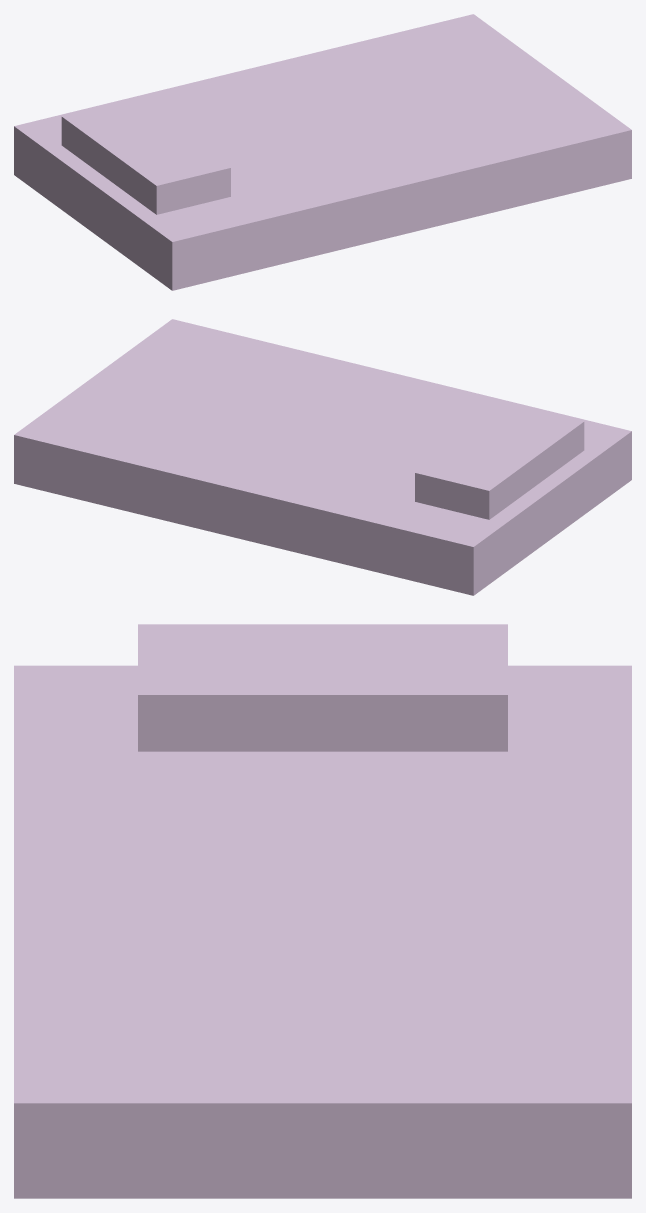
The model's file is bed.glb.
3 renders of one model, top to bottom at view 1: azimuth 30°, elevation 25°; view 2: azimuth 150°, elevation 25°; view 3: azimuth 270°, elevation 25°, orthographic. The views are drawn at different scales.
Visible parts, largest first — view 1: Cube, Cube.001; view 2: Cube, Cube.001; view 3: Cube, Cube.001.
Part boxes in pixels (x1,y1,x2,y2): Cube: [14, 14, 631, 290]; Cube.001: [61, 98, 230, 214]; Cube: [14, 319, 631, 595]; Cube.001: [415, 403, 584, 519]; Cube: [14, 665, 631, 1198]; Cube.001: [138, 624, 507, 751].
Bounding box in the file's own units: 8.58 × 1.39 × 5.12.
